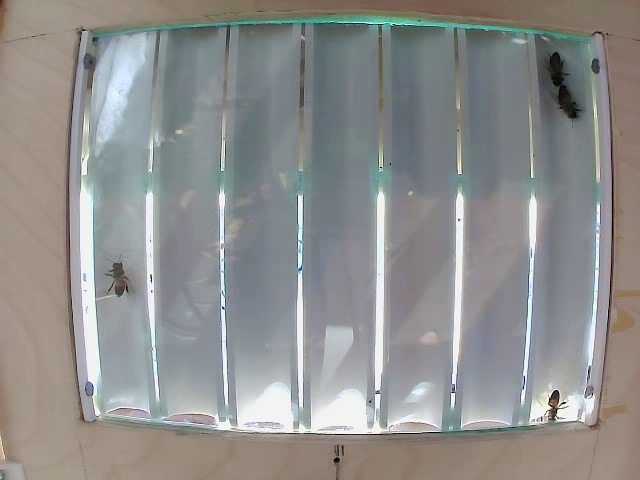bee: (100, 253, 155, 296), (542, 50, 570, 78), (548, 86, 578, 108)
